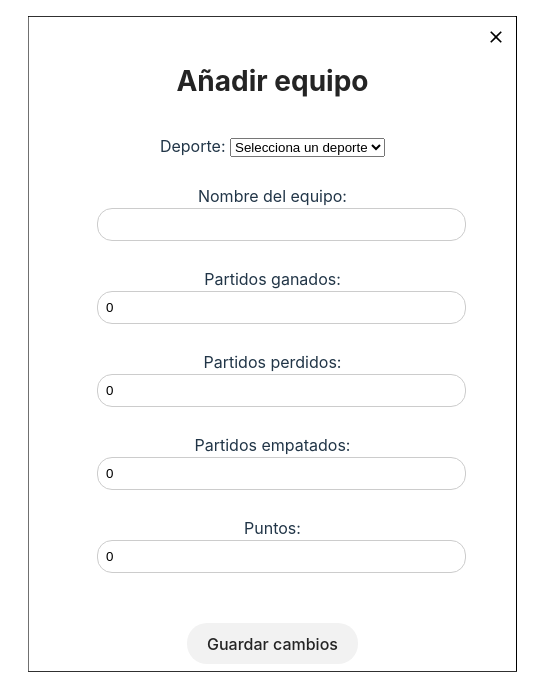
Test: AdminModalTeams Component › Input Validation and Error Messages › shows error message for negative puntos
Replace the text in the number field labelled "Puntos:" with "-10" at (281, 556), box [96,540,466,573]
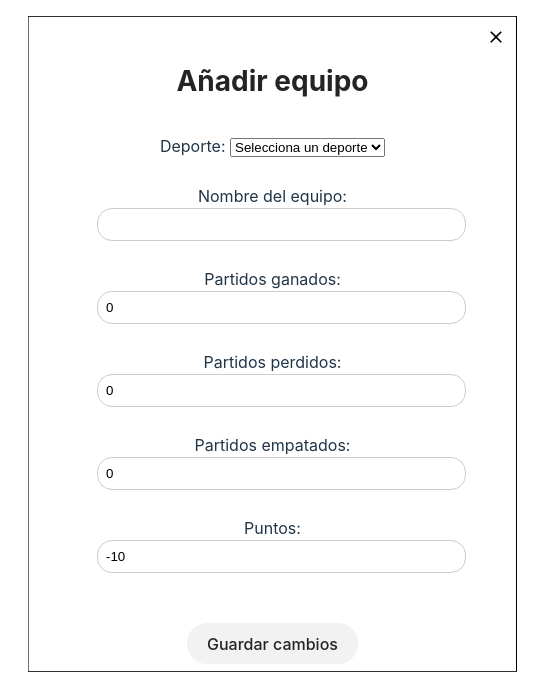
Click the button "Guardar cambios" at (272, 644), box [186,623,358,664]
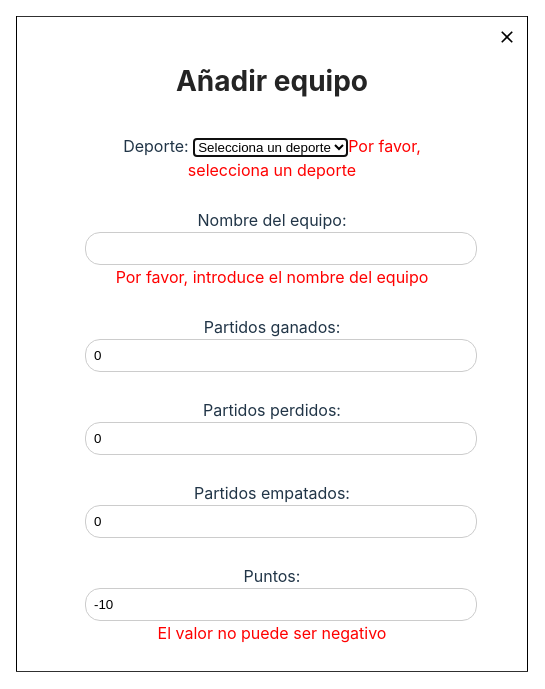
Now the text "El valor no puede ser negativo" is shown, box [158,623,386,643]
